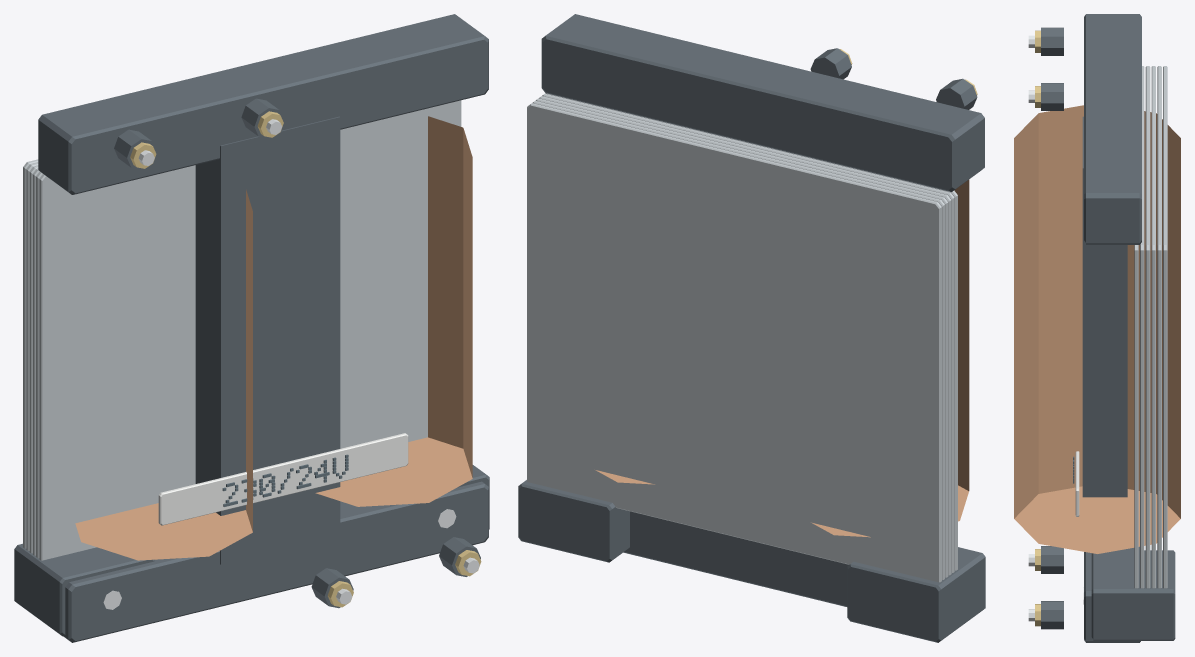
The model's file is transformer.glb.
3 views of the same model, side by side, from view 1: azimuth 30°, elevation 25°; view 2: azimuth 150°, elevation 25°; view 3: azimuth 270°, elevation 25° (orthographic). The views are drawn at different scales.
Parts seen in each view (by area): view 1: transformer-board; view 2: transformer-board; view 3: transformer-board.
Boxes of the visible parts, box(x1,y1,x2,y2) form: transformer-board: box(14, 14, 489, 642); transformer-board: box(518, 14, 985, 642); transformer-board: box(1014, 14, 1180, 642).
Size of the model in its own units: 2.81 by 3.23 by 1.06.
